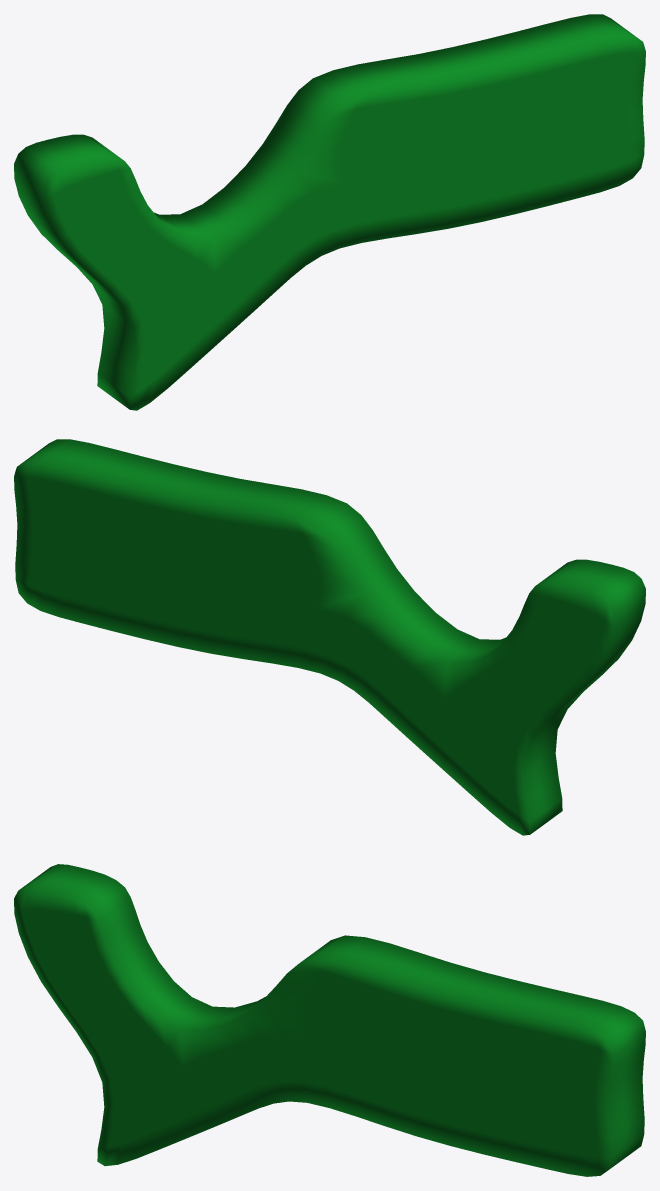
File: grip_02.fbx
The picture shows the model from 3 angles, top to bottom: view 1: azimuth 30°, elevation 25°; view 2: azimuth 150°, elevation 25°; view 3: azimuth 330°, elevation 25°; orthographic projection.
Parts seen in each view (by area): view 1: Plane.001; view 2: Plane.001; view 3: Plane.001.
Boxes of the visible parts, bbox=[...] form: Plane.001: bbox=[14, 14, 645, 410]; Plane.001: bbox=[14, 439, 645, 835]; Plane.001: bbox=[14, 864, 645, 1176].
Size of the model in its own units: 1212 by 505 by 113.
